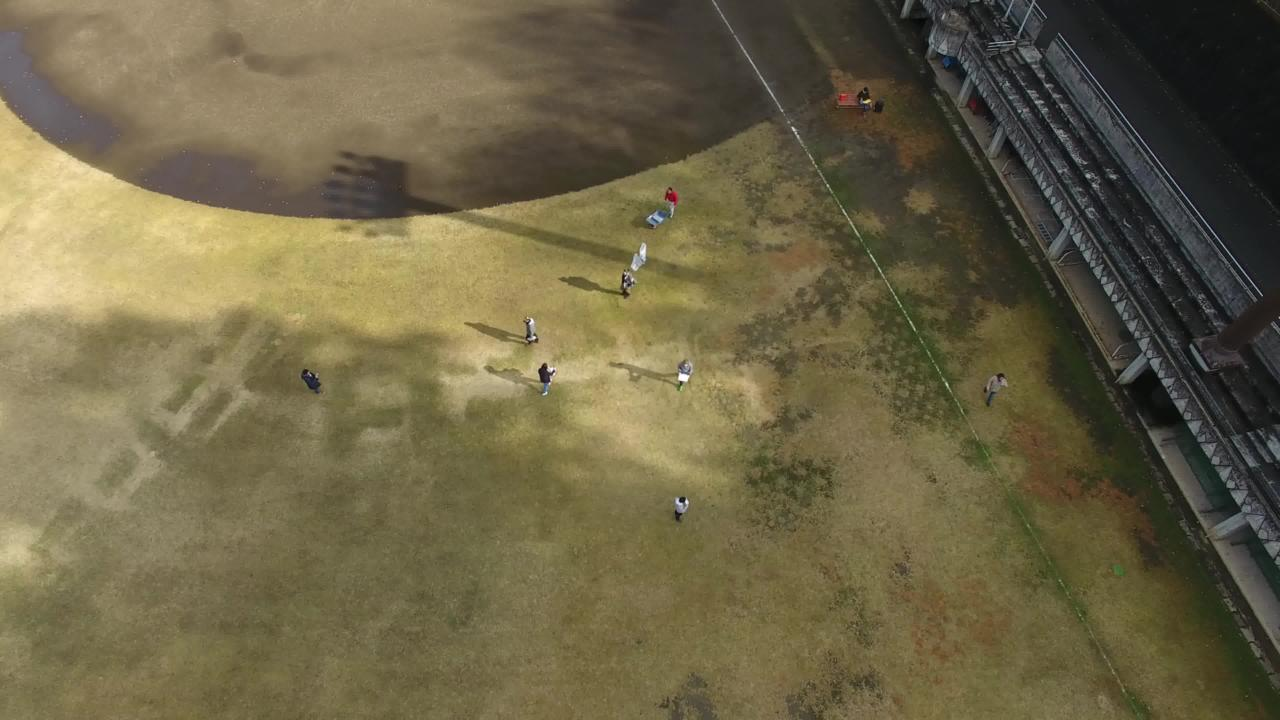person: (293, 345, 326, 408), (649, 164, 682, 227), (608, 263, 641, 326), (662, 474, 695, 537), (667, 342, 700, 405), (507, 287, 540, 350), (527, 357, 560, 420), (983, 358, 1016, 421), (848, 69, 881, 132)
